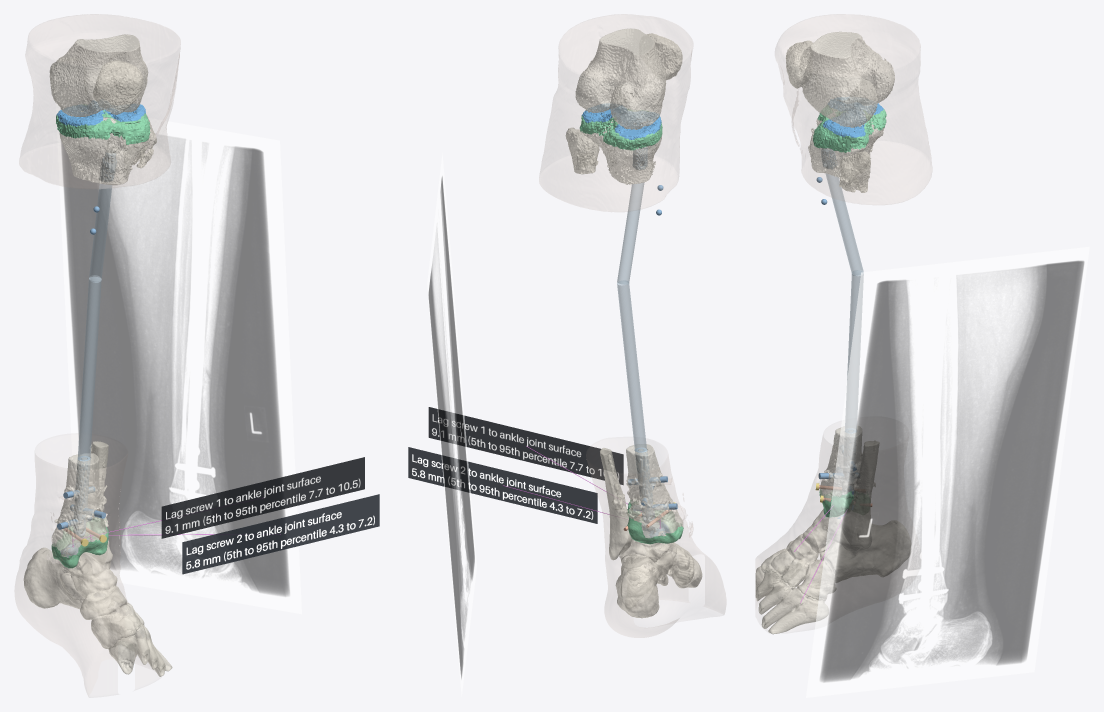
File: 2022-08-05_081718_lat.glb
The picture shows the model from 3 angles, left to right: view 1: azimuth 30°, elevation 25°; view 2: azimuth 150°, elevation 25°; view 3: azimuth 270°, elevation 25°; orthographic projection. The views are drawn at different scales.
Parts seen in each view (by area): view 1: radiograph, skin, tibia, implant_8, implant_16, tarsal, femur, nail_modelled, patella, metatarsal, capsule_band_knee, nail (+3 smaller); view 2: skin, radiograph, femur, implant_17, implant_9, tibia, tarsal, nail_modelled, fibula, articular_surface_knee, capsule_band_knee, nail (+3 smaller); view 3: radiograph, skin, tarsal, femur, fibula, tibia, nail_modelled, metatarsal, capsule_band_knee, articular_surface_knee, patella, nail (+1 smaller).
Part boxes in pixels (bbox=[...]): radiograph: bbox=[56, 103, 301, 614]; skin: bbox=[15, 14, 180, 696]; tibia: bbox=[52, 113, 147, 568]; implant_8: bbox=[161, 457, 364, 538]; implant_16: bbox=[182, 494, 379, 574]; tarsal: bbox=[23, 539, 144, 649]; femur: bbox=[49, 34, 148, 117]; nail_modelled: bbox=[77, 184, 111, 460]; patella: bbox=[93, 60, 143, 114]; metatarsal: bbox=[109, 623, 172, 676]; capsule_band_knee: bbox=[56, 110, 150, 144]; nail: bbox=[73, 152, 116, 537]; skin: bbox=[539, 14, 725, 637]; radiograph: bbox=[427, 153, 476, 696]; femur: bbox=[575, 28, 666, 129]; implant_17: bbox=[408, 447, 597, 523]; implant_9: bbox=[428, 407, 623, 485]; tibia: bbox=[579, 115, 683, 543]; tarsal: bbox=[615, 522, 694, 618]; nail_modelled: bbox=[617, 182, 646, 452]; fibula: bbox=[565, 127, 631, 560]; articular_surface_knee: bbox=[582, 104, 661, 139]; capsule_band_knee: bbox=[579, 109, 662, 150]; nail: bbox=[633, 147, 654, 523]; radiograph: bbox=[806, 247, 1089, 697]; skin: bbox=[756, 14, 931, 608]; tarsal: bbox=[761, 509, 911, 600]; femur: bbox=[801, 31, 894, 128]; fibula: bbox=[839, 150, 879, 548]; tibia: bbox=[808, 119, 884, 517]; nail_modelled: bbox=[825, 173, 863, 432]; metatarsal: bbox=[755, 566, 828, 634]; capsule_band_knee: bbox=[813, 105, 886, 152]; articular_surface_knee: bbox=[823, 97, 883, 137]; patella: bbox=[785, 40, 812, 88]; nail: bbox=[821, 148, 856, 494].
Bounding box in the file's own units: 0.2864 × 0.5457 × 0.2767.
15 materials, 3 textured.
